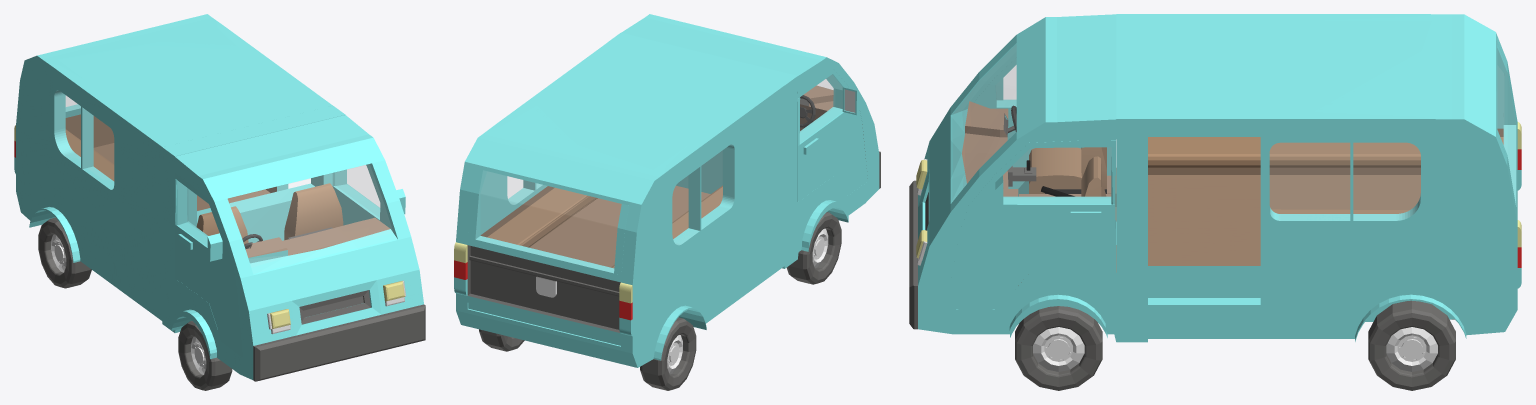
Rendered from carry car well 3.fbx.
3 renders of one model, left to right at view 1: azimuth 30°, elevation 25°; view 2: azimuth 150°, elevation 25°; view 3: azimuth 270°, elevation 25°, orthographic. The views are drawn at different scales.
Visible parts, largest first — view 1: Cube, Kerangka v2, Kaca Depan, Pintu Kanan, Kaca samping.001, Interior Seat.001, Ban Belakang Kanan, Ban Depan kanan, Rem Tangan, Cube.001, Kaca Pintu kiri.001, Kaca Pintu kiri.002 (+2 smaller); view 2: Cube, Kerangka v2, kaca belakang, Pintu Kanan, Duduk Belakang pendek, Ban Belakang Kanan, Ban Depan kanan, Kaca samping.001, Kaca Pintu kiri.001, Cube.002, Duduk Belakang, Ban belakang Kiri (+2 smaller); view 3: Cube, Kerangka v2, Rem Tangan, Kaca samping, Duduk Belakang, Ban belakang Kiri, Ban Depan Kiri, Kaca Pintu kiri.002, Kaca Depan, Interior Seat, Pintu Kanan, kaca belakang (+4 smaller).
Boxes of the visible parts, <box> form: Cube: <box>14,14,332,320</box>; Kerangka v2: <box>162,105,425,381</box>; Kaca Depan: <box>228,164,392,266</box>; Pintu Kanan: <box>175,174,242,356</box>; Kaca samping.001: <box>55,91,113,180</box>; Interior Seat.001: <box>284,183,343,240</box>; Ban Belakang Kanan: <box>38,217,91,288</box>; Ban Depan kanan: <box>178,321,232,390</box>; Rem Tangan: <box>332,164,405,228</box>; Cube.001: <box>267,280,405,334</box>; Kaca Pintu kiri.001: <box>187,188,218,235</box>; Kaca Pintu kiri.002: <box>347,165,379,206</box>; Cube: <box>454,42,784,367</box>; Kerangka v2: <box>608,14,880,268</box>; kaca belakang: <box>476,172,620,272</box>; Pintu Kanan: <box>797,69,867,201</box>; Duduk Belakang pendek: <box>487,187,597,247</box>; Ban Belakang Kanan: <box>640,317,696,390</box>; Ban Depan kanan: <box>786,212,841,284</box>; Kaca samping.001: <box>673,151,722,244</box>; Kaca Pintu kiri.001: <box>800,75,842,132</box>; Cube.002: <box>468,168,486,239</box>; Duduk Belakang: <box>611,185,722,268</box>; Ban belakang Kiri: <box>479,329,524,351</box>; Cube: <box>1147,14,1521,341</box>; Kerangka v2: <box>909,14,1147,342</box>; Rem Tangan: <box>945,140,1115,309</box>; Kaca samping: <box>1270,143,1420,219</box>; Duduk Belakang: <box>1148,137,1503,167</box>; Ban belakang Kiri: <box>1368,300,1455,390</box>; Ban Depan Kiri: <box>1015,306,1102,390</box>; Kaca Pintu kiri.002: <box>1003,148,1110,197</box>; Kaca Depan: <box>954,45,1015,187</box>; Interior Seat: <box>1029,147,1106,193</box>; Pintu Kanan: <box>974,57,1115,188</box>; kaca belakang: <box>1498,66,1515,200</box>.
Bounding box in the file's own units: 176 × 186 × 379.
